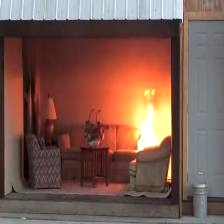fire: (117, 79, 172, 141)
